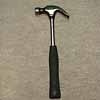hammer: (34, 5, 70, 100)
